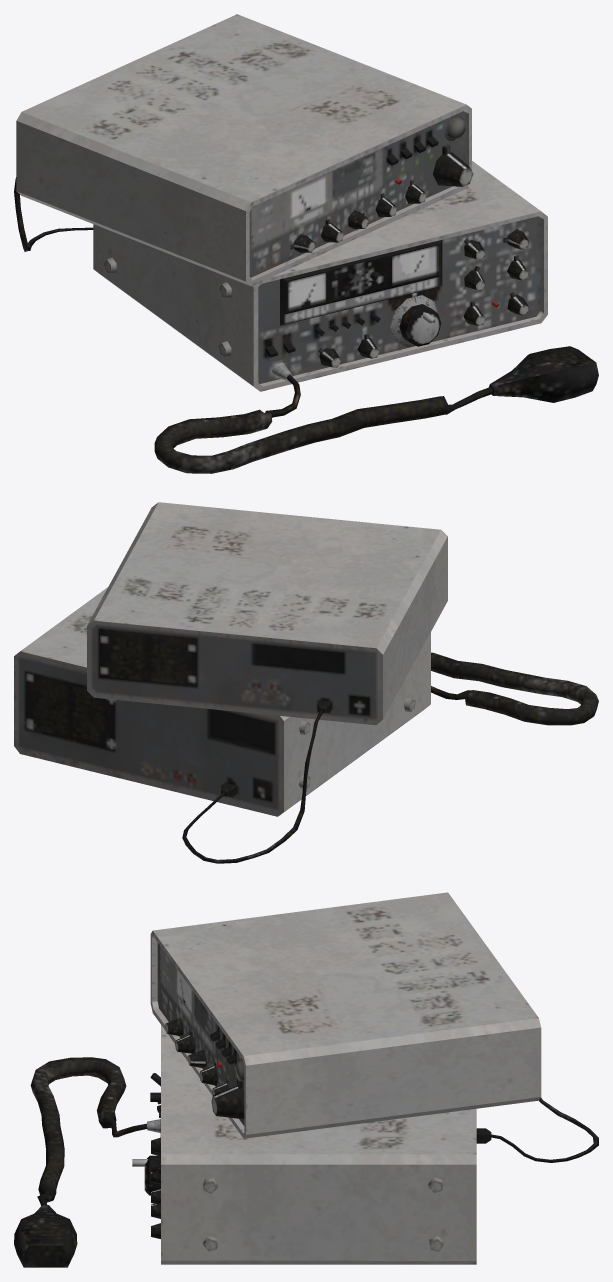
File: 023_AudioInstrument.fbx
3 views of the same model, one above another, from view 1: azimuth 30°, elevation 25°; view 2: azimuth 150°, elevation 25°; view 3: azimuth 270°, elevation 25° (orthographic). The views are drawn at different scales.
Visible parts, largest first — view 1: LOD_1_Group_1_Sub_1__sm31_023_AudioInstrument01A_A_Mat, LOD_1_Group_2_Sub_1__sm31_023_AudioInstrument01A_A_Mat; view 2: LOD_1_Group_1_Sub_1__sm31_023_AudioInstrument01A_A_Mat, LOD_1_Group_2_Sub_1__sm31_023_AudioInstrument01A_A_Mat; view 3: LOD_1_Group_1_Sub_1__sm31_023_AudioInstrument01A_A_Mat, LOD_1_Group_2_Sub_1__sm31_023_AudioInstrument01A_A_Mat.
Boxes of the visible parts, x1,y1,x2,y2 form: LOD_1_Group_1_Sub_1__sm31_023_AudioInstrument01A_A_Mat: (14, 14, 547, 391); LOD_1_Group_2_Sub_1__sm31_023_AudioInstrument01A_A_Mat: (154, 346, 598, 473); LOD_1_Group_1_Sub_1__sm31_023_AudioInstrument01A_A_Mat: (14, 502, 447, 863); LOD_1_Group_2_Sub_1__sm31_023_AudioInstrument01A_A_Mat: (431, 652, 598, 725); LOD_1_Group_1_Sub_1__sm31_023_AudioInstrument01A_A_Mat: (132, 892, 598, 1264); LOD_1_Group_2_Sub_1__sm31_023_AudioInstrument01A_A_Mat: (14, 1057, 147, 1267).
Bounding box in the file's own units: 0.8158 × 0.3759 × 0.9687.
